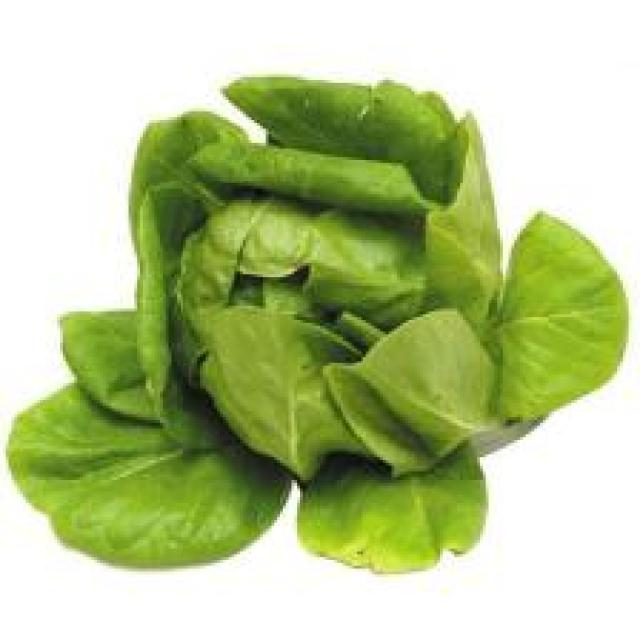Lettuce: (24, 68, 622, 584)
